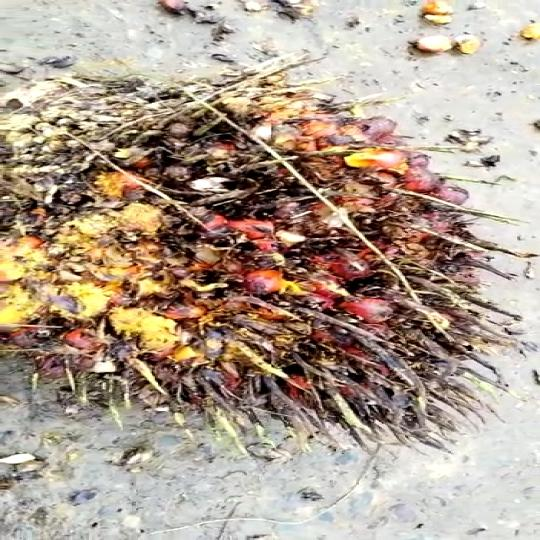terlalu masak: (0, 51, 513, 476)
